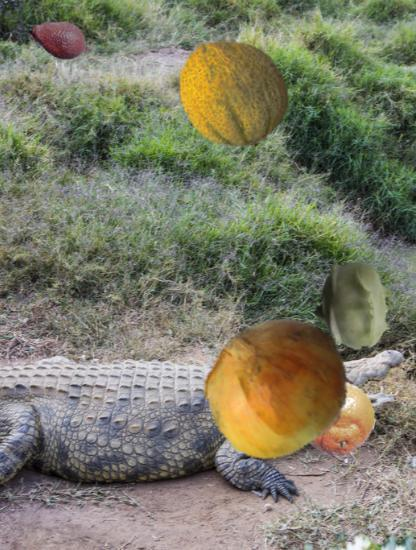Cantaloupe: (175, 34, 291, 150)
Kohlrabi: (309, 260, 401, 352)
Mandarine: (300, 381, 376, 457)
Onion: (203, 315, 351, 463)
Salak: (28, 7, 96, 75)
Strawberry: (285, 363, 357, 435)
